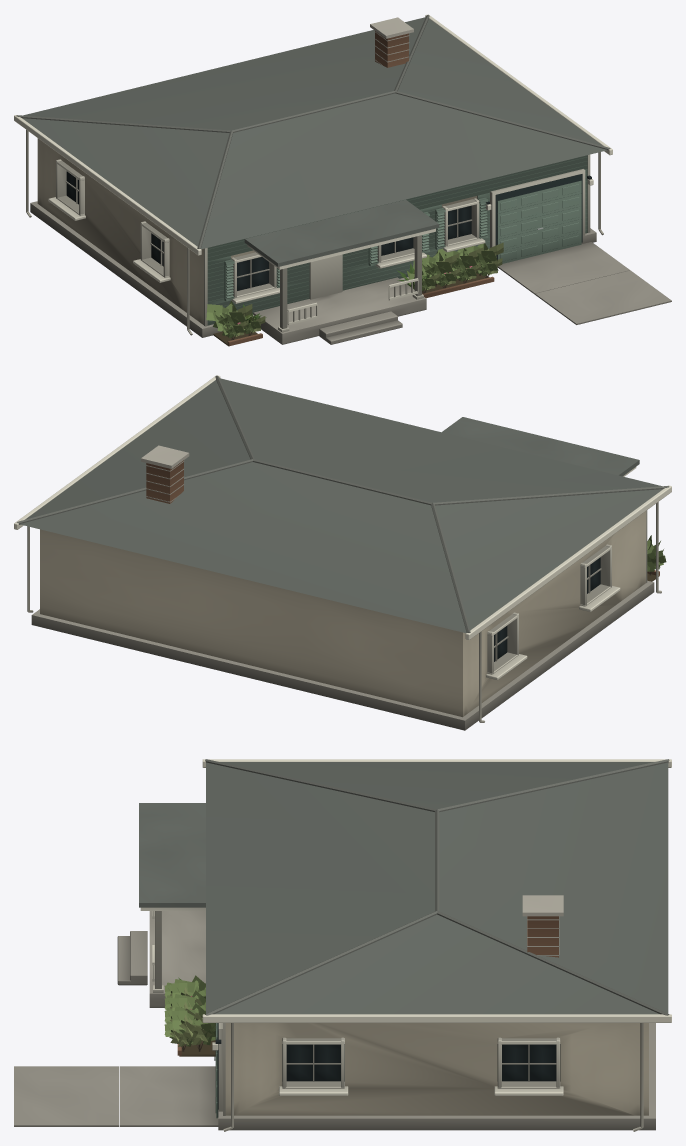
File: house-1.glb
3 renders of one model, top to bottom at view 1: azimuth 30°, elevation 25°; view 2: azimuth 150°, elevation 25°; view 3: azimuth 270°, elevation 25°, orthographic. The views are drawn at different scales.
Parts seen in each view (by area): view 1: shingle, concrete, sage, ivory, stucco, foliage, roof-edge, window-glazing, terracotta, foliage-light, window-interior; view 2: shingle, stucco, concrete, ivory, roof-edge, terracotta, window-glazing; view 3: shingle, stucco, concrete, ivory, roof-edge, window-glazing, foliage, terracotta, foliage-light.
Part boxes in pixels (bbox=[...]): shingle: bbox=[22, 17, 607, 266]; concrete: bbox=[30, 17, 671, 344]; sage: bbox=[207, 155, 587, 325]; ivory: bbox=[14, 14, 612, 335]; stucco: bbox=[37, 138, 477, 324]; foliage: bbox=[206, 243, 498, 338]; roof-edge: bbox=[16, 15, 610, 248]; window-glazing: bbox=[66, 171, 471, 290]; terracotta: bbox=[227, 31, 494, 346]; foliage-light: bbox=[229, 242, 503, 336]; window-interior: bbox=[495, 174, 582, 259]; shingle: bbox=[20, 378, 662, 633]; stucco: bbox=[40, 511, 645, 717]; concrete: bbox=[31, 445, 654, 730]; ivory: bbox=[14, 375, 671, 722]; roof-edge: bbox=[17, 375, 669, 632]; terracotta: bbox=[146, 460, 659, 575]; window-glazing: bbox=[494, 557, 600, 661]; shingle: bbox=[139, 762, 668, 1014]; stucco: bbox=[225, 1023, 648, 1115]; concrete: bbox=[14, 895, 655, 1130]; ivory: bbox=[140, 759, 671, 1131]; roof-edge: bbox=[205, 759, 669, 1015]; window-glazing: bbox=[286, 1044, 556, 1081]; foliage: bbox=[164, 975, 215, 1046]; terracotta: bbox=[177, 916, 558, 1055]; foliage-light: bbox=[170, 987, 212, 1046].
Size of the model in its own units: 17.25 by 5.58 by 18.64.
